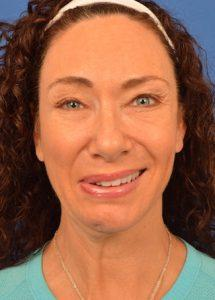strokeEyeWeak: (50, 82, 173, 120)
strokeMouthMid: (73, 164, 154, 201)
